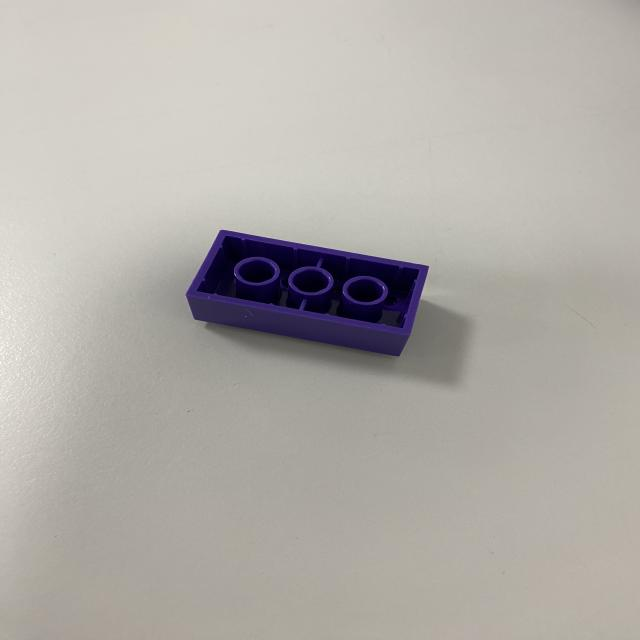C4x2x1: (183, 227, 431, 331), (189, 294, 405, 357)
